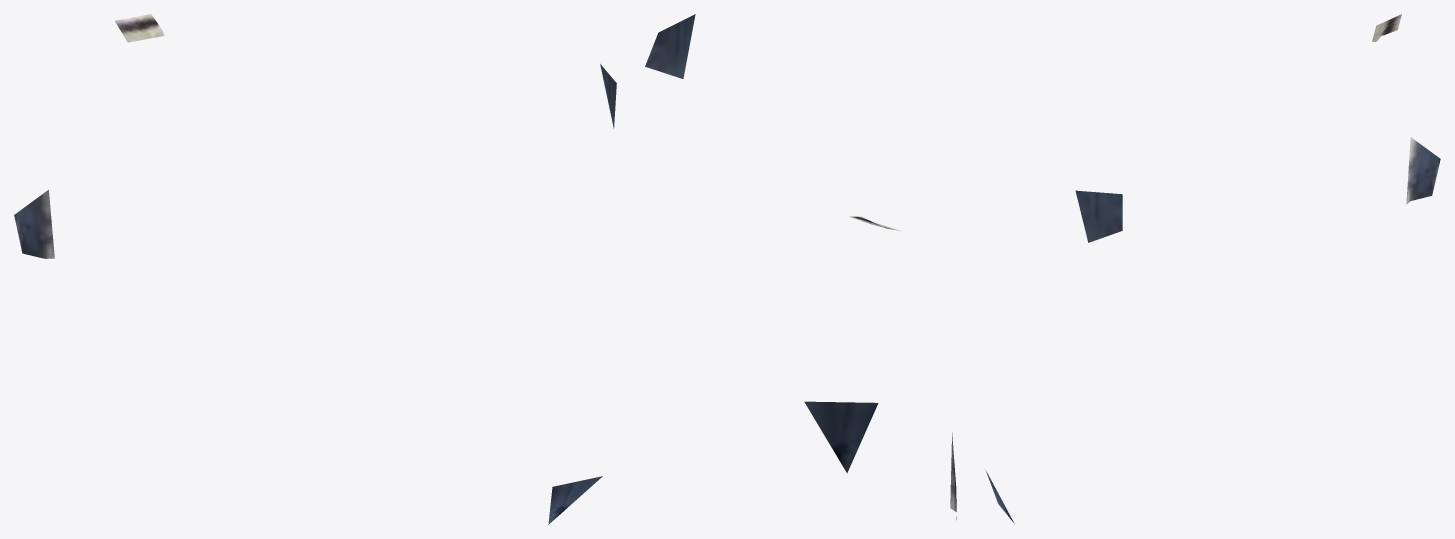
3 renders of one model, left to right at view 1: azimuth 30°, elevation 25°; view 2: azimuth 150°, elevation 25°; view 3: azimuth 270°, elevation 25°, orthographic. The views are drawn at different scales.
Parts seen in each view (by area): view 1: 30436272704361707626_1; view 2: 30436272704361707626_1; view 3: 30436272704361707626_1.
Part boxes in pixels (x1,y1,x2,y2): 30436272704361707626_1: (14, 14, 616, 524); 30436272704361707626_1: (645, 14, 956, 519); 30436272704361707626_1: (985, 14, 1440, 523).
Bounding box in the file's own units: 17.34 × 15.87 × 16.35.
Materials: 1 (1 with a texture image).
